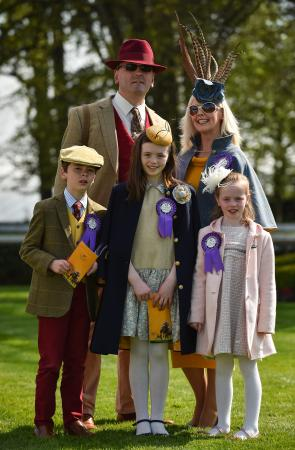Person: (107, 126, 197, 440), (20, 145, 107, 436), (198, 161, 276, 439), (179, 8, 249, 159), (66, 39, 172, 127)
